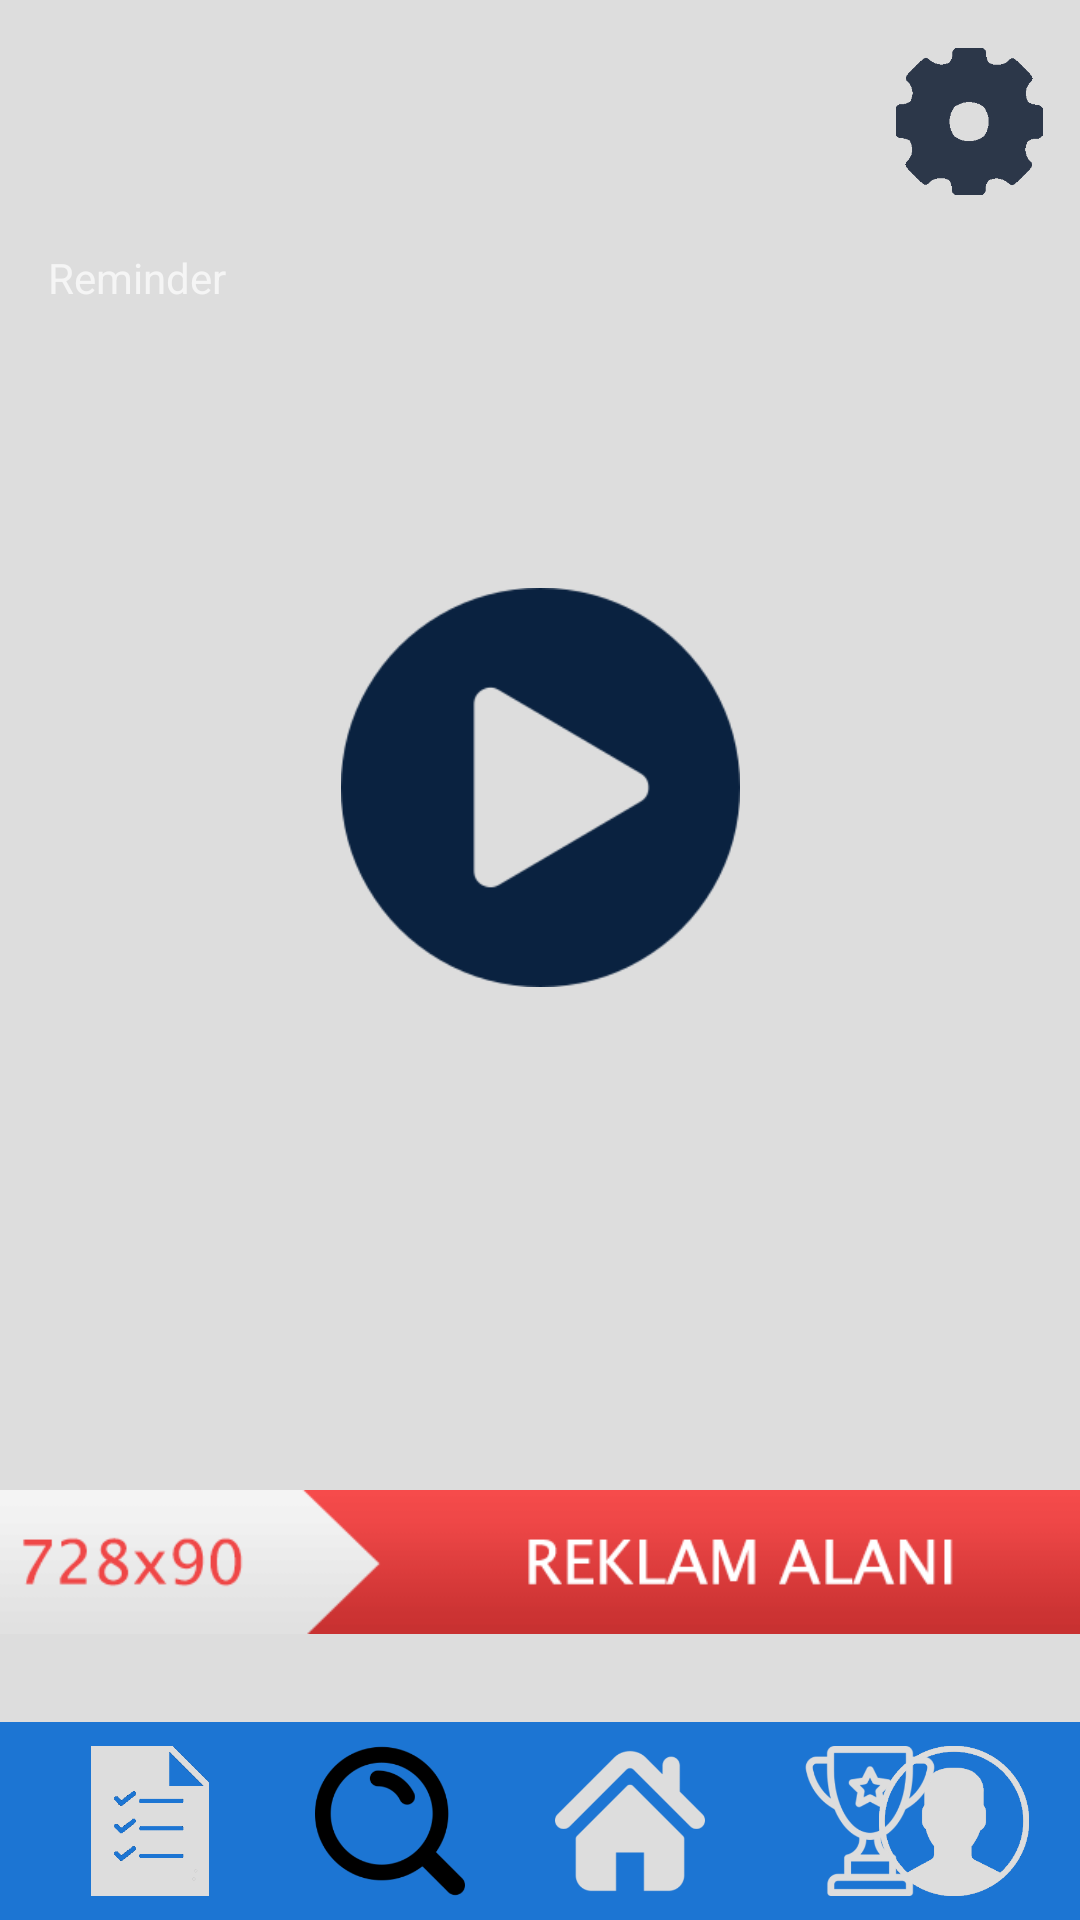

Named icons in this screenshot (1080w x 1920h) and their centers, [x,y]:
hom eico nsilhouette: [630,1821]
list: [150,1821]
magnifying glass finder: [390,1821]
settings work tool: [969,121]
